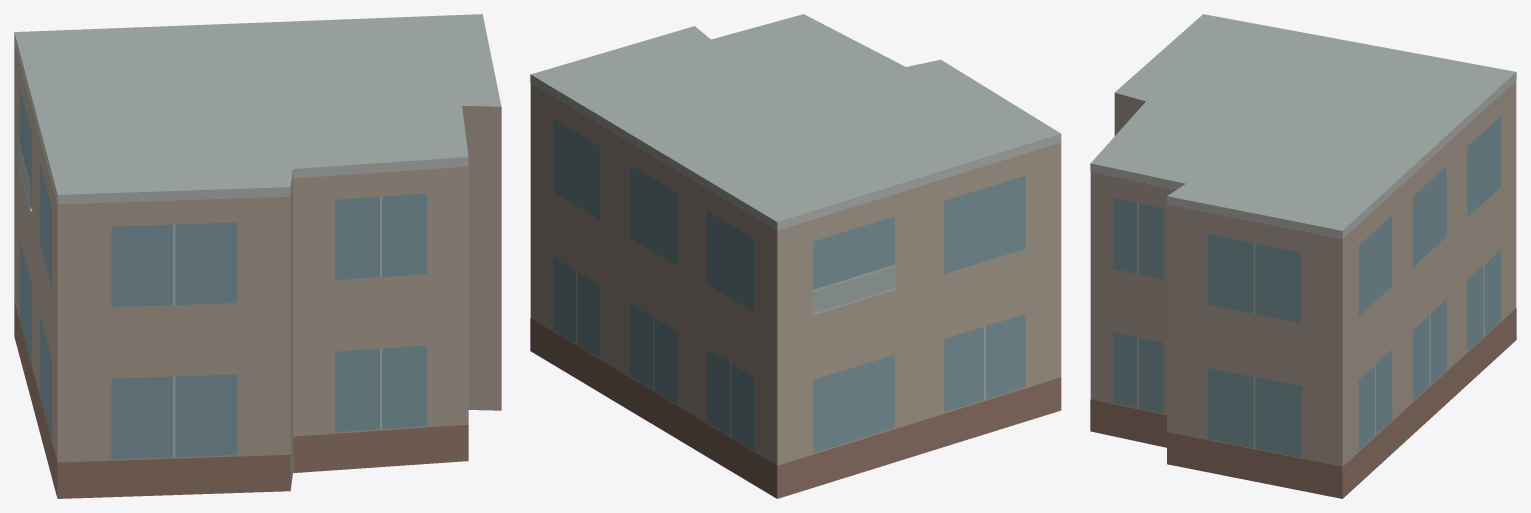
File: survey-upis-33046122.glb
3 views of the same model, side by side, from view 1: azimuth 30°, elevation 25°; view 2: azimuth 150°, elevation 25°; view 3: azimuth 270°, elevation 25° (orthographic). The views are drawn at different scales.
Parts seen in each view (by area): view 1: survey-upis-33046122.tmp; view 2: survey-upis-33046122.tmp; view 3: survey-upis-33046122.tmp.
Boxes of the visible parts, box(x1,y1,x2,y2) form: survey-upis-33046122.tmp: box(14, 14, 501, 498); survey-upis-33046122.tmp: box(530, 14, 1061, 498); survey-upis-33046122.tmp: box(1090, 14, 1516, 498).
Bounding box in the file's own units: 13.55 × 7.8 × 11.25.
